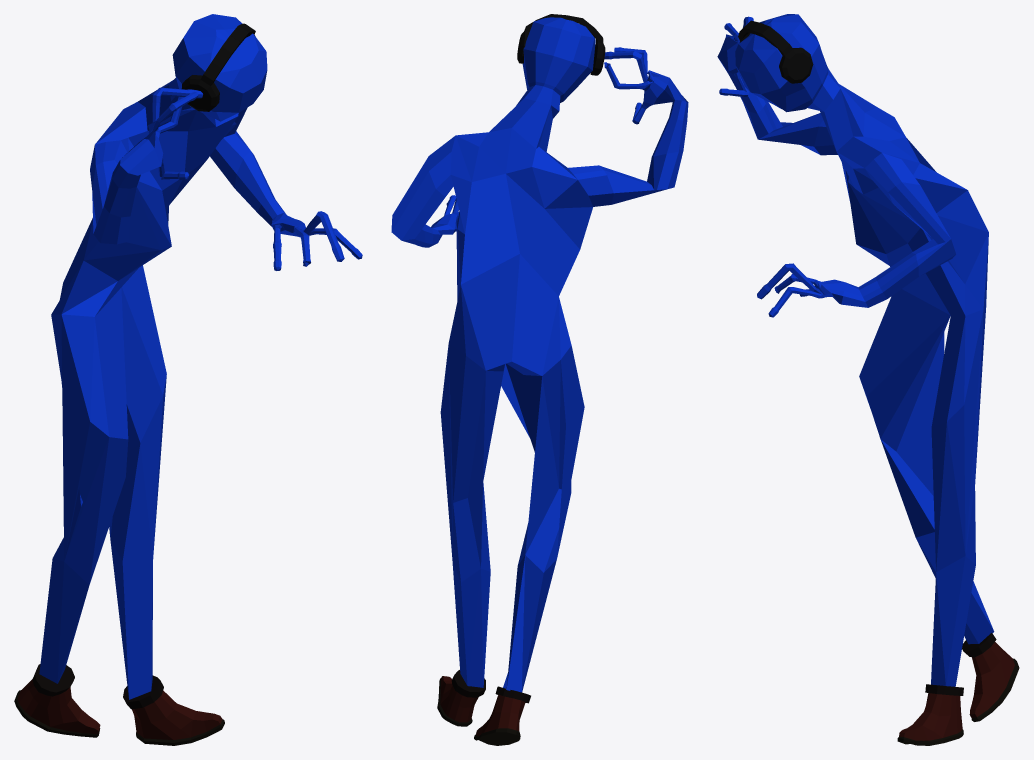
Rendered from dj_anim_p1_f3.obj.
The picture shows the model from 3 angles, left to right: view 1: azimuth 30°, elevation 25°; view 2: azimuth 150°, elevation 25°; view 3: azimuth 270°, elevation 25°; orthographic projection. The views are drawn at different scales.
Visible parts, largest first — view 1: dj_alien, Shoe, Headphones; view 2: dj_alien, Shoe, Headphones; view 3: dj_alien, Shoe, Headphones.
Boxes of the visible parts, bbox=[...] form: dj_alien: bbox=[39, 14, 362, 699]; Shoe: bbox=[14, 664, 224, 745]; Headphones: bbox=[181, 23, 255, 111]; dj_alien: bbox=[391, 17, 688, 692]; Shoe: bbox=[437, 670, 530, 745]; Headphones: bbox=[517, 14, 605, 75]; dj_alien: bbox=[717, 14, 994, 686]; Shoe: bbox=[897, 633, 1019, 745]; Headphones: bbox=[738, 20, 813, 83].
Size of the model in its own units: 0.7222 by 2.02 by 0.7806.
